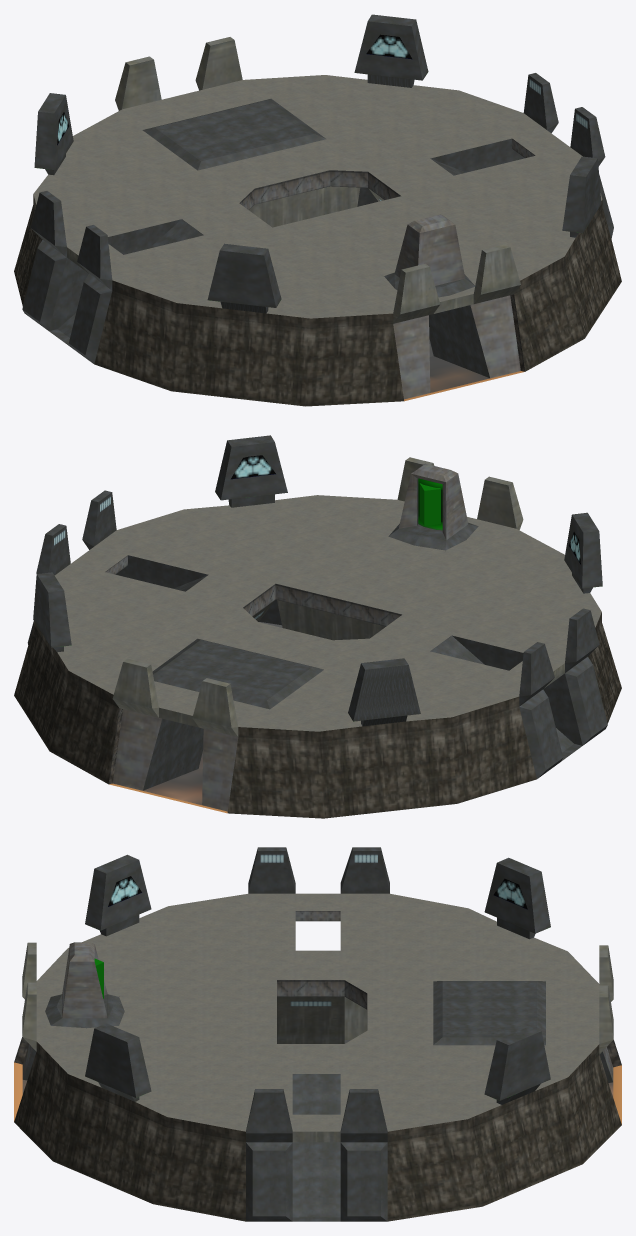
Rendered from halobuilding.glb.
The picture shows the model from 3 angles, top to bottom: view 1: azimuth 30°, elevation 25°; view 2: azimuth 150°, elevation 25°; view 3: azimuth 270°, elevation 25°; orthographic projection. The views are drawn at different scales.
Parts seen in each view (by area): view 1: mesh; view 2: mesh; view 3: mesh.
Part boxes in pixels (box(x1,y1,x2,y2)): mesh: box(14, 14, 621, 406); mesh: box(14, 435, 621, 818); mesh: box(14, 847, 621, 1221).
Bounding box in the file's own units: 27.63 × 8.15 × 27.13.
1 material, 1 textured.
